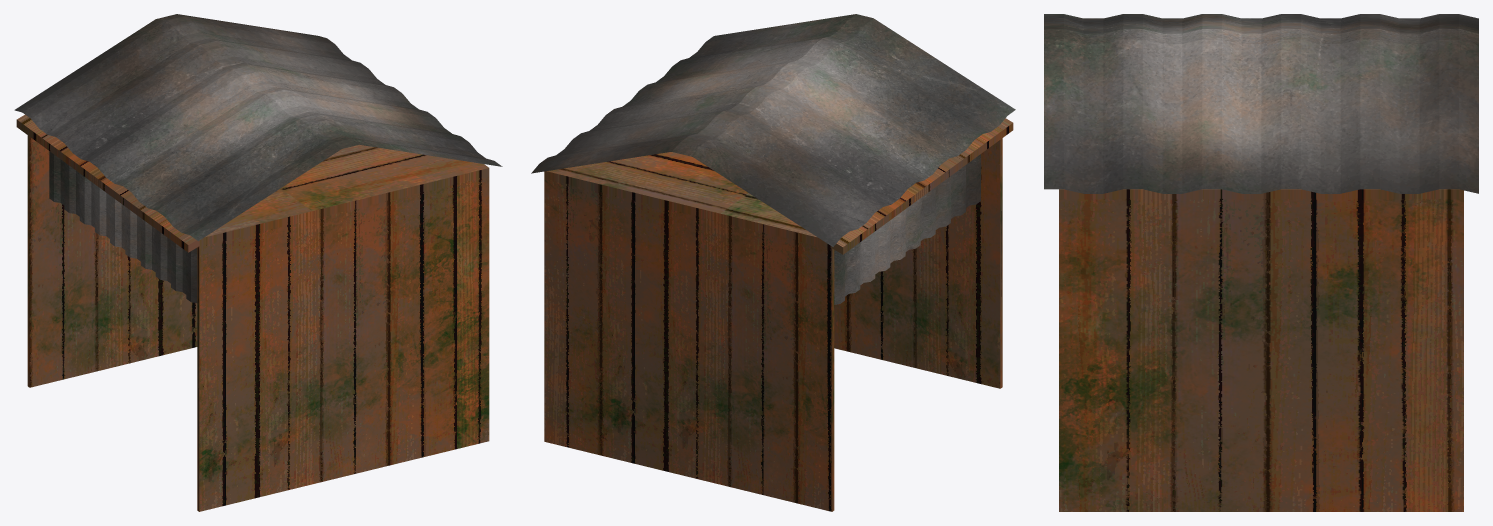
File: busstop.glb
The picture shows the model from 3 angles, left to right: view 1: azimuth 30°, elevation 25°; view 2: azimuth 150°, elevation 25°; view 3: azimuth 270°, elevation 25°; orthographic projection. The views are drawn at different scales.
Visible parts, largest first — view 1: walls, Cube, Plane.001; view 2: walls, Cube, Plane.001; view 3: walls, Cube.
Boxes of the visible parts, x1,y1,x2,y2 form: walls: (16, 114, 489, 511); Cube: (14, 14, 502, 241); Plane.001: (49, 151, 197, 302); walls: (544, 118, 1013, 511); Cube: (531, 14, 1015, 246); Plane.001: (834, 154, 980, 304); walls: (1059, 189, 1463, 511); Cube: (1044, 14, 1478, 193).
Size of the model in its own units: 8.5 by 8.81 by 8.8.
Materials: 4 (4 with a texture image).
